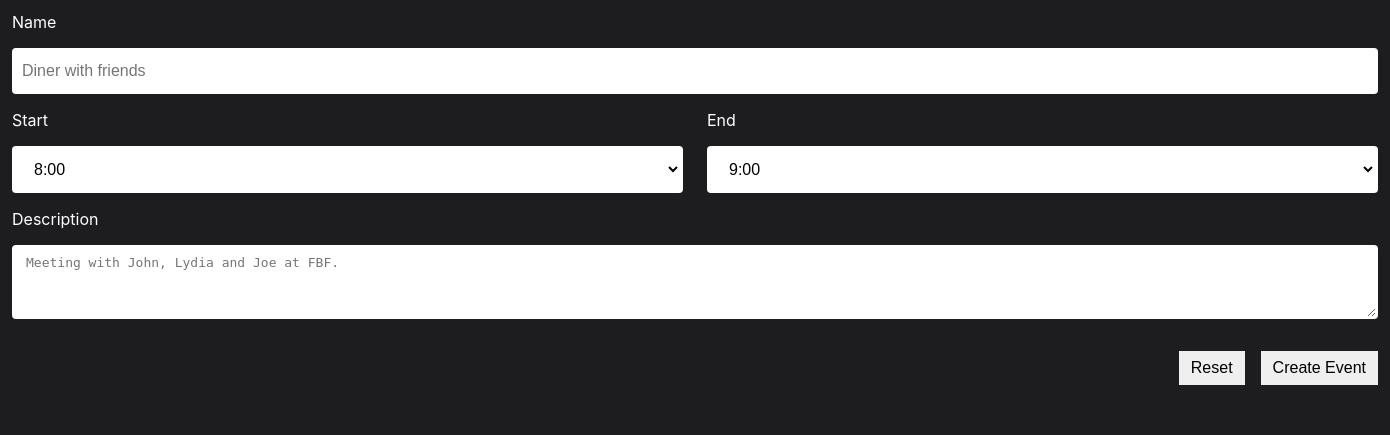
Event Creation Form › Validation: Name Required
Click the button "Create Event": point(1319, 368) [1261,351,1378,385]
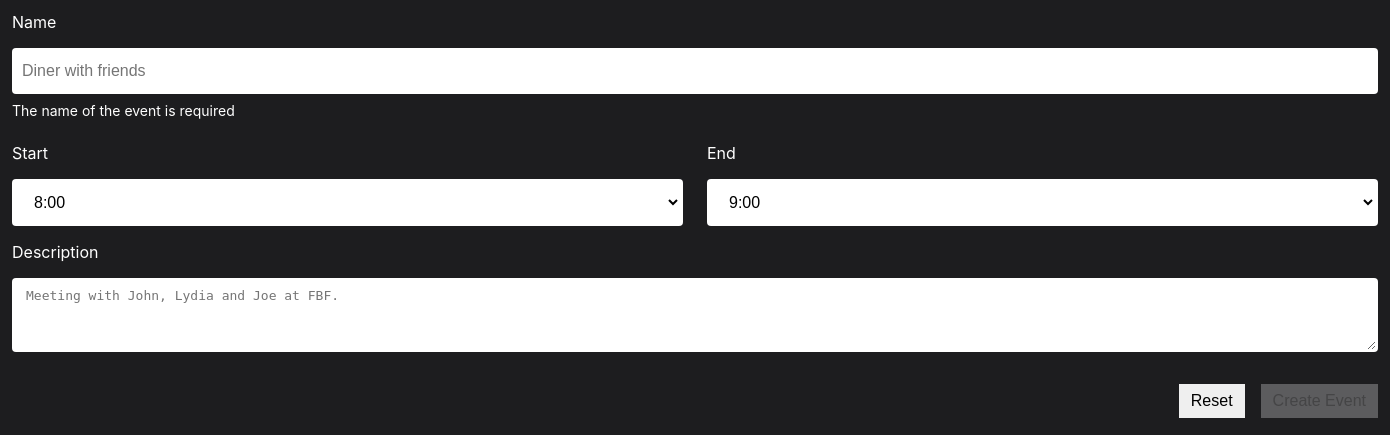
Expected: the text "The name of the event is required" is shown, [12,102,235,119]
